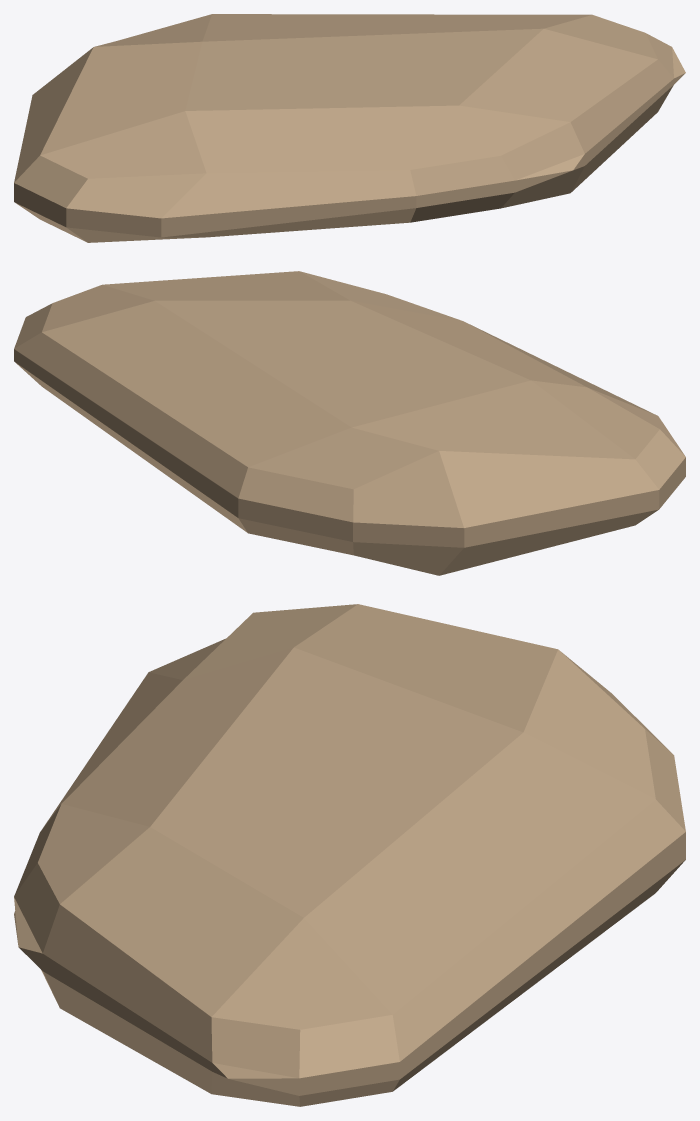
File: rock_1.FBX
3 renders of one model, top to bottom at view 1: azimuth 30°, elevation 25°; view 2: azimuth 150°, elevation 25°; view 3: azimuth 270°, elevation 25°, orthographic. The views are drawn at different scales.
Parts seen in each view (by area): view 1: rock_1; view 2: rock_1; view 3: rock_1.
Boxes of the visible parts, bbox=[...] form: rock_1: bbox=[14, 14, 685, 242]; rock_1: bbox=[14, 271, 685, 575]; rock_1: bbox=[14, 604, 685, 1106].
Size of the model in its own units: 4847 by 910 by 3034.
